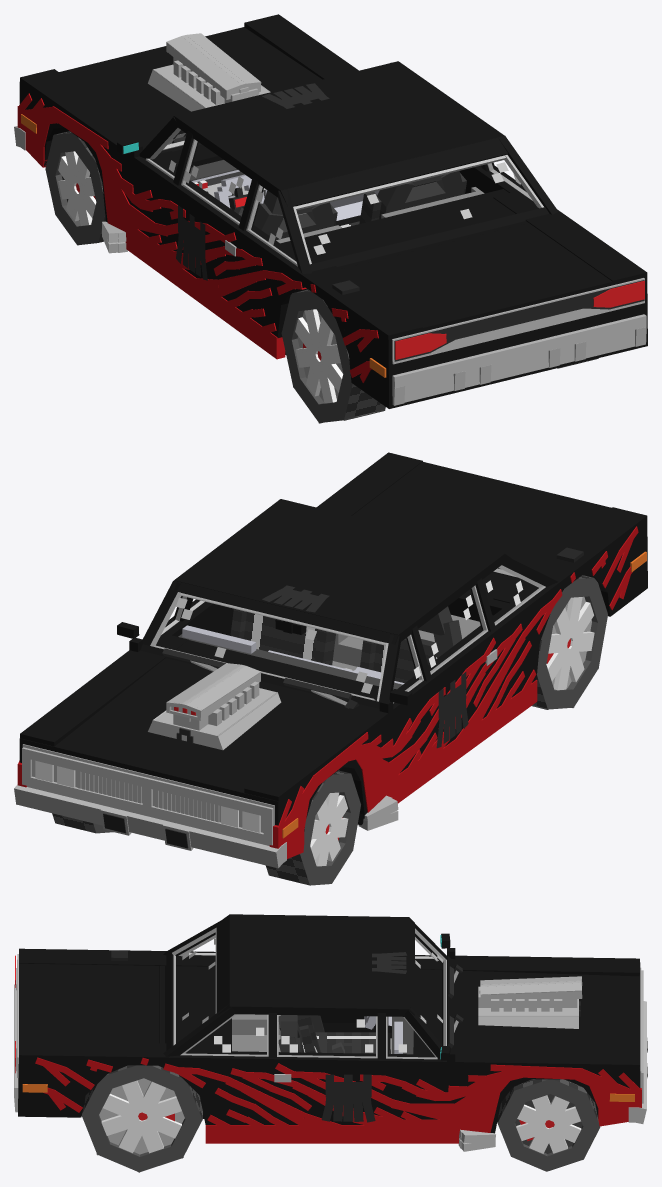
Rendered from hw-roadrunner.glb.
3 renders of one model, top to bottom at view 1: azimuth 30°, elevation 25°; view 2: azimuth 150°, elevation 25°; view 3: azimuth 270°, elevation 25°, orthographic. The views are drawn at different scales.
Parts seen in each view (by area): view 1: part1_50, part1_56, part1_121, part1_51, backwheels_main_636, part1_22, part1_160, part1_57, part1_172, part1_173, part1_208, part3_291 (+26 smaller); view 2: part1_56, part1_121, part1_50, part1_160, part1_269, part1_159, part1_22, part1_172, backwheels_main_636, front_left_666, part3_291, part1_247 (+25 smaller); view 3: part1_56, part1_50, part1_121, part1_183, backwheels_main_636, part3_365, front_right_696, part1_159, part1_160, part1_173, part1_171, part1_172 (+47 smaller).
Part boxes in pixels (<box>): part1_50: <box>262,189,647,345</box>; part1_56: <box>174,61,504,197</box>; part1_121: <box>19,27,322,179</box>; part1_51: <box>351,281,647,408</box>; backwheels_main_636: <box>281,289,598,423</box>; part1_22: <box>105,143,275,333</box>; part1_160: <box>20,69,179,180</box>; part1_57: <box>280,136,512,207</box>; part1_172: <box>269,246,422,343</box>; part1_173: <box>493,189,647,284</box>; part1_208: <box>392,314,643,404</box>; part3_291: <box>110,216,285,359</box>; part1_56: <box>174,499,504,641</box>; part1_121: <box>20,640,412,809</box>; part1_50: <box>352,462,647,621</box>; part1_160: <box>244,686,413,802</box>; part1_269: <box>14,784,283,868</box>; part1_159: <box>20,635,188,746</box>; part1_22: <box>364,611,533,807</box>; part1_172: <box>493,507,647,615</box>; backwheels_main_636: <box>532,575,607,709</box>; front_left_666: <box>265,770,360,885</box>; part3_291: <box>377,680,537,803</box>; part1_247: <box>22,747,273,818</box>; part1_56: <box>229,914,409,1016</box>; part1_50: <box>19,963,231,1066</box>; part1_121: <box>413,962,640,1075</box>; part1_183: <box>210,1065,494,1127</box>; backwheels_main_636: <box>81,1065,202,1172</box>; part3_365: <box>205,1125,485,1143</box>; front_right_696: <box>497,1079,600,1171</box>; part1_159: <box>413,1047,639,1072</box>; part1_160: <box>415,955,639,976</box>; part1_173: <box>19,1041,220,1065</box>; part1_171: <box>220,1051,429,1069</box>; part1_172: <box>19,948,215,966</box>.
Size of the model in its own units: 2.11 by 1.32 by 4.72.
Materials: 1 (1 with a texture image).
